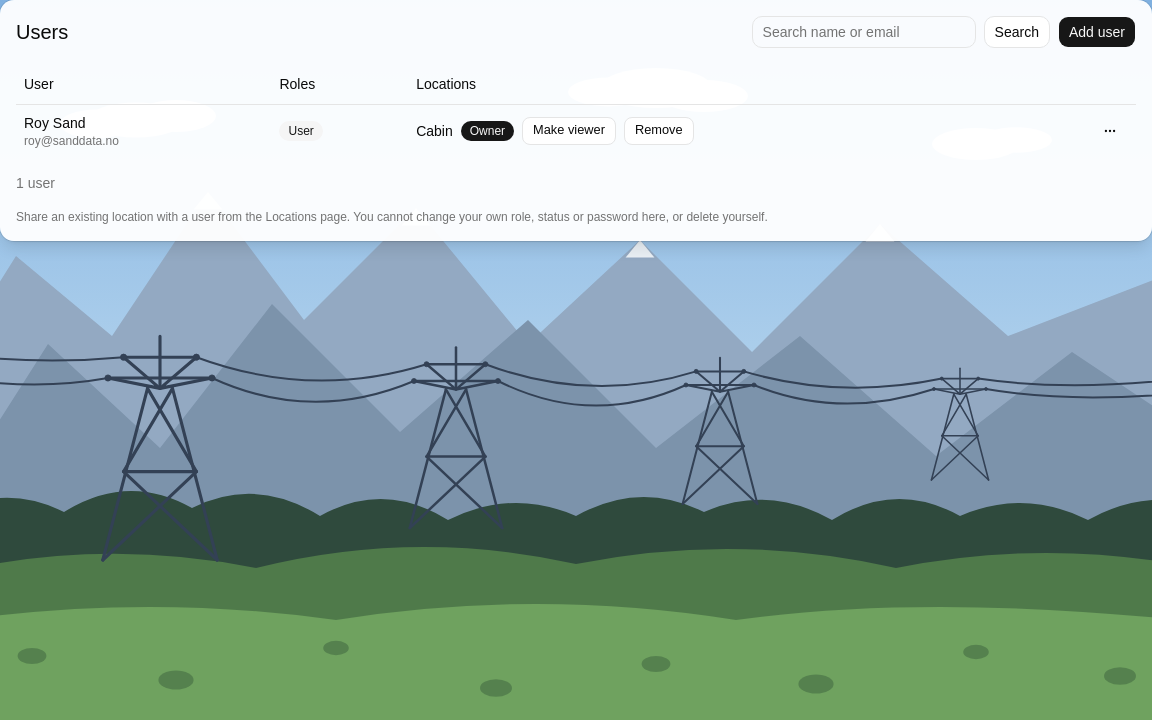
Test: UsersPage location actions › shows the server message when removing the last owner is refused
The width and height of the screenshot is (1152, 720).
Click the button with aria-label "Remove roy@sanddata.no from Cabin" at (659, 130), box top-left (624, 116), bottom-right (694, 144)
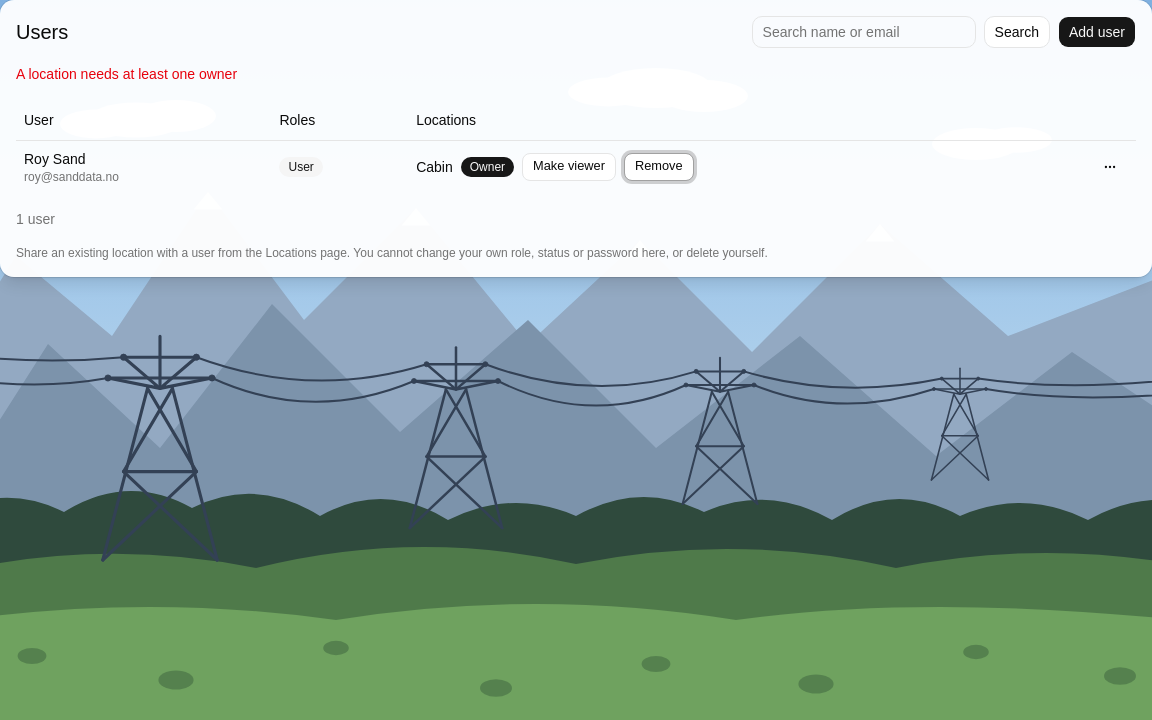
Check: the list item "Cabin" is shown, box top-left (416, 158), bottom-right (453, 174)
Check: the text "A location needs at least one owner" is shown, box top-left (16, 66), bottom-right (237, 82)
